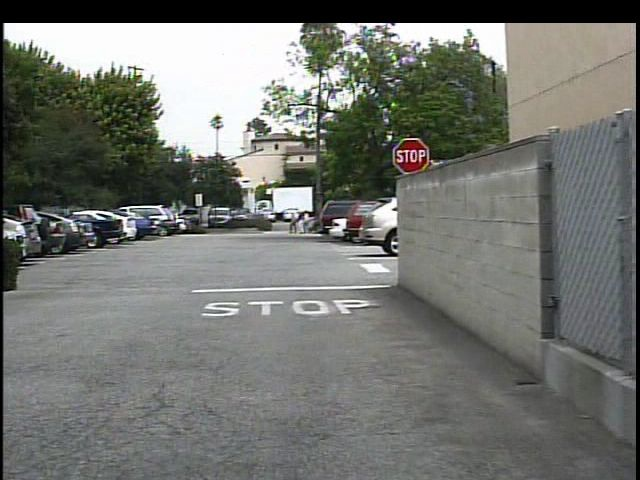person: (281, 211, 296, 238), (295, 210, 309, 235)
